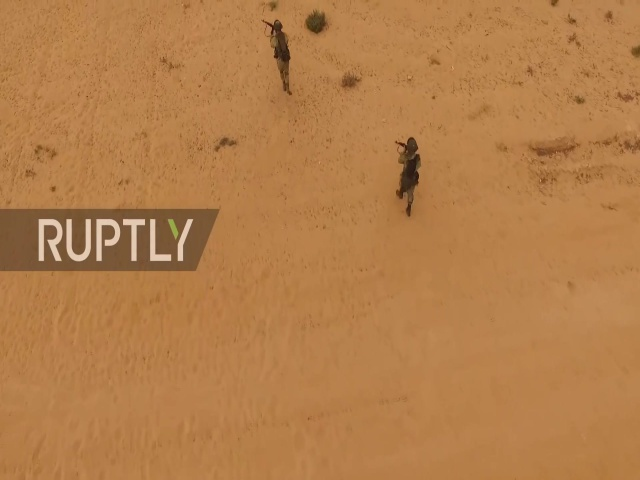person: (391, 134, 424, 222), (263, 18, 295, 98)
